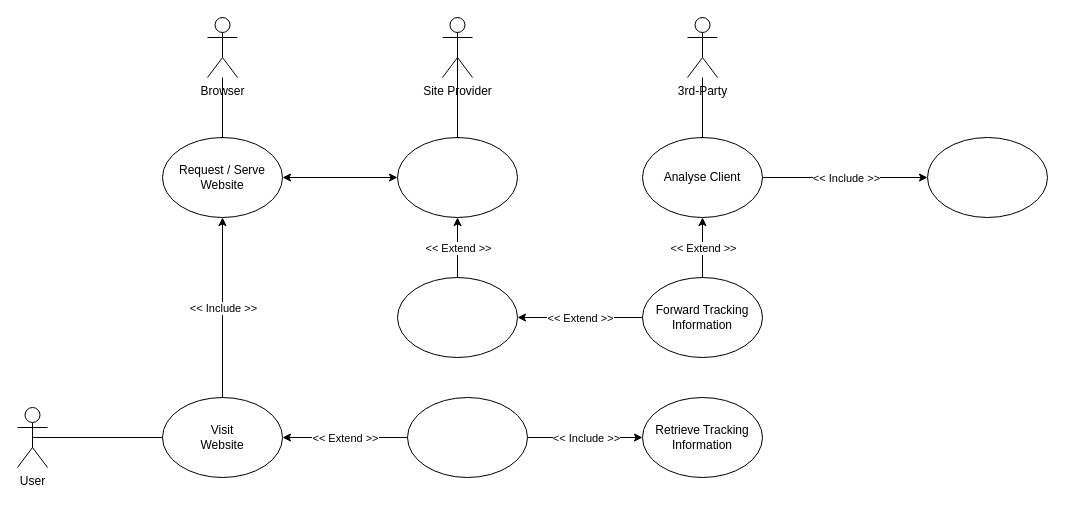
The diagram is 1065 pixels wide and 506 high, and some of its shapes have lost their labels. The shapes that lost their labels are listed below. From the top down, each one's centre as x and y in pixels, then its label:
At point (457, 177): "Provide Content".
At point (987, 177): "Match Tracking Information".
At point (457, 317): "Embed Tracking Information".
At point (467, 437): "View trackers on website".
